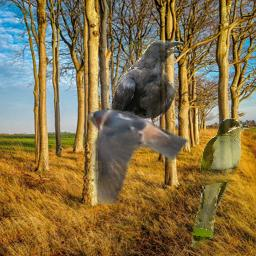Crow: (104, 40, 184, 136)
Cuckoo: (191, 118, 250, 250)
Swallow: (86, 105, 190, 204)
